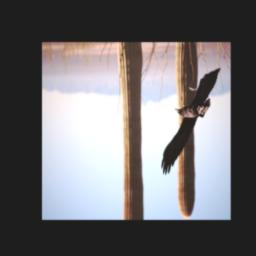Crow: (160, 65, 222, 177)
